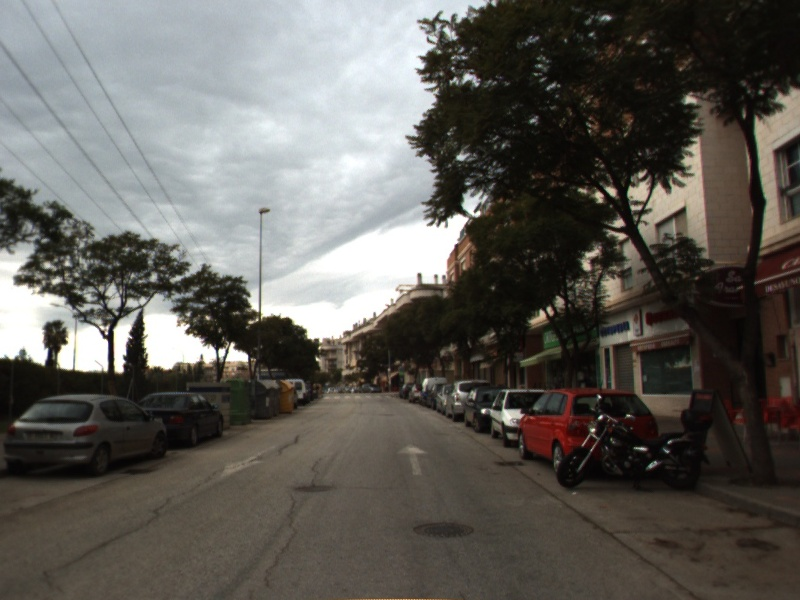STRAIGHT: (395, 441, 431, 477)
